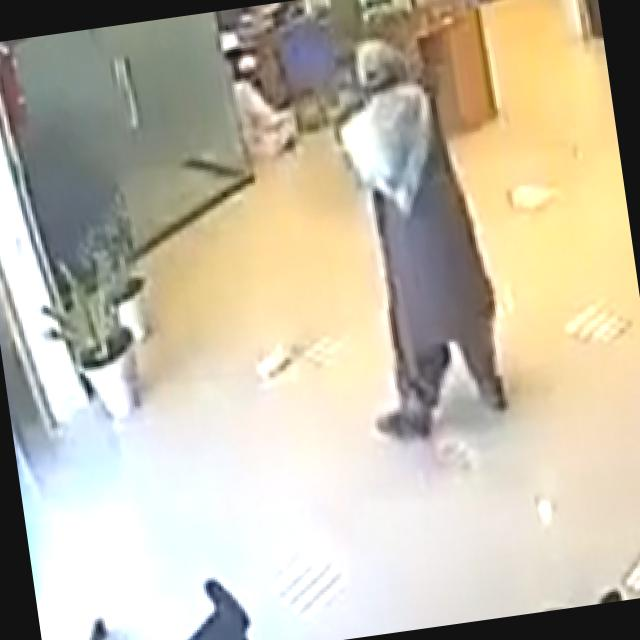person: (324, 26, 514, 443)
